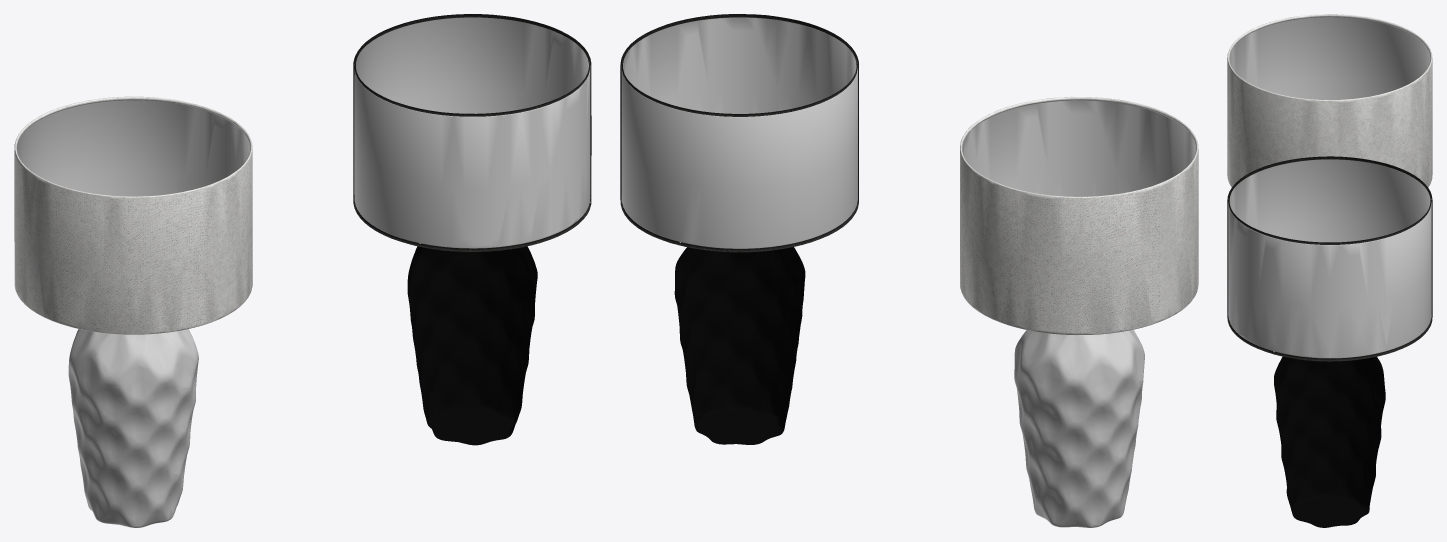
File: table_lamp.glb
3 views of the same model, side by side, from view 1: azimuth 30°, elevation 25°; view 2: azimuth 150°, elevation 25°; view 3: azimuth 270°, elevation 25° (orthographic). The views are drawn at different scales.
Visible parts, largest first — view 1: Circle.001_8, Circle_5, Plane.001_6, Plane_4; view 2: Circle_5, Circle.001_8, Plane.001_6, Plane_4; view 3: Circle_5, Circle.001_8, Plane_4.
Part boxes in pixels (x1,y1,x2,y2): Circle.001_8: (14, 96, 252, 334); Circle_5: (353, 14, 591, 251); Plane.001_6: (68, 329, 198, 527); Plane_4: (407, 246, 537, 445); Circle_5: (620, 14, 858, 252); Circle.001_8: (960, 96, 1198, 335); Plane.001_6: (1014, 330, 1144, 527); Plane_4: (674, 247, 805, 444); Circle_5: (1227, 156, 1432, 361); Circle.001_8: (1227, 14, 1432, 187); Plane_4: (1274, 356, 1385, 527).
Size of the model in its own units: 36.58 by 23.28 by 13.85.
Materials: 7 (2 with a texture image).
